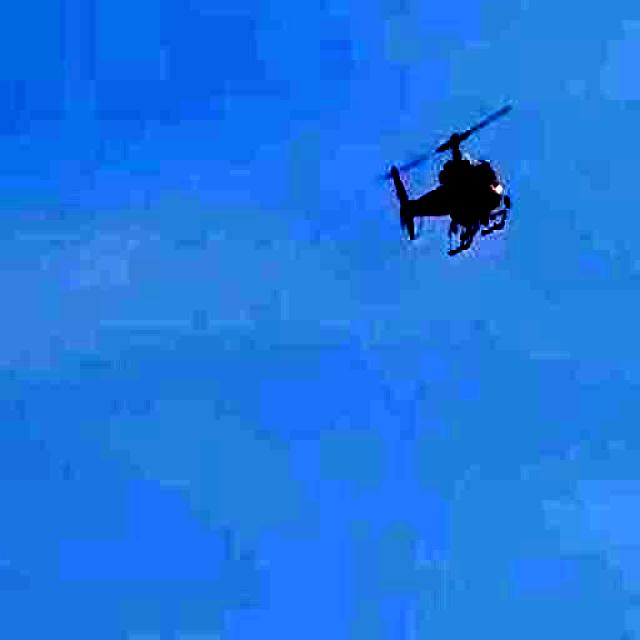drone: (346, 58, 548, 281)
